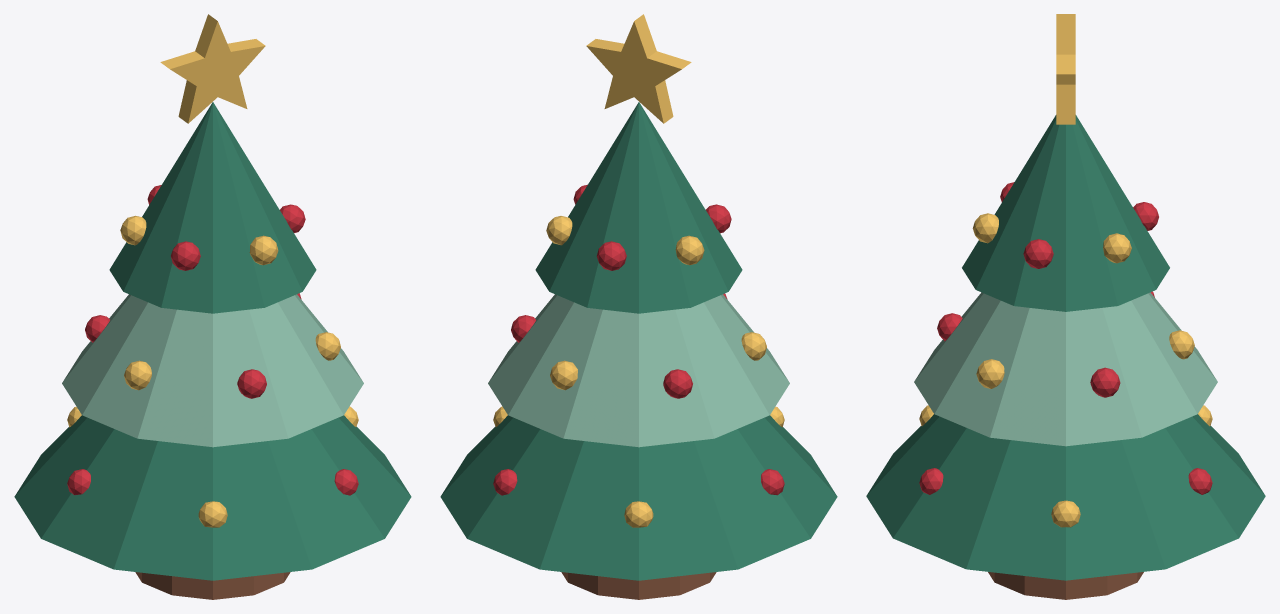
The model's file is xmastree.glb.
3 renders of one model, left to right at view 1: azimuth 30°, elevation 25°; view 2: azimuth 150°, elevation 25°; view 3: azimuth 270°, elevation 25°, orthographic.
Visible parts, largest first — view 1: decorated-christmas-tree; view 2: decorated-christmas-tree; view 3: decorated-christmas-tree.
Boxes of the visible parts, x1,y1,x2,y2 form: decorated-christmas-tree: [14, 14, 411, 599]; decorated-christmas-tree: [440, 14, 837, 599]; decorated-christmas-tree: [866, 14, 1265, 599].
Bounding box in the file's own units: 1.84 × 2.8 × 1.84.
